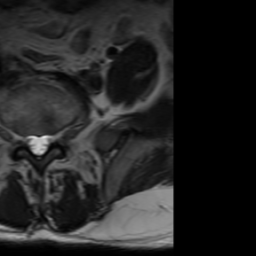CCS_normal: (34, 126, 42, 165)
LFS_normal: (51, 123, 61, 151)
LLS_normal: (42, 125, 51, 159)
RFS_normal: (17, 123, 25, 153)
RLS_normal: (25, 127, 34, 158)
